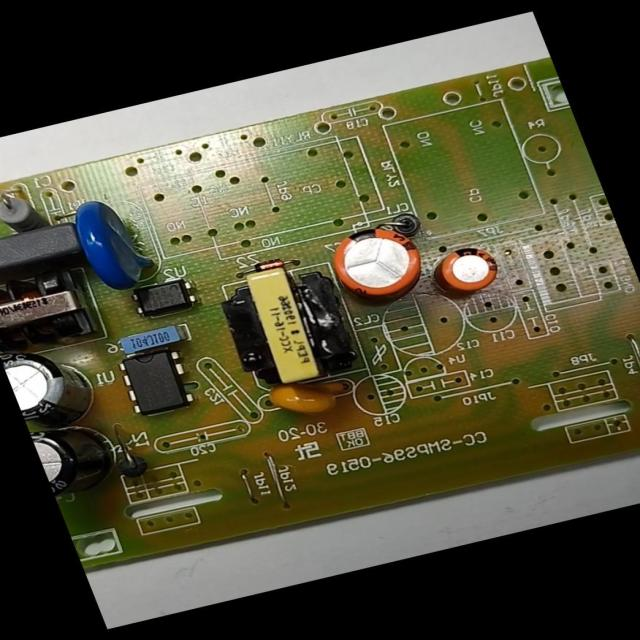Cap1: (316, 214, 438, 307)
Cap2: (426, 236, 508, 298)
Cap3: (0, 334, 110, 426)
Cap4: (28, 411, 133, 507)
MOSFET: (112, 342, 204, 421)
Mov: (63, 186, 163, 295)
Resistor: (0, 175, 50, 235)
Transformer: (202, 250, 372, 396), (0, 262, 104, 358)
